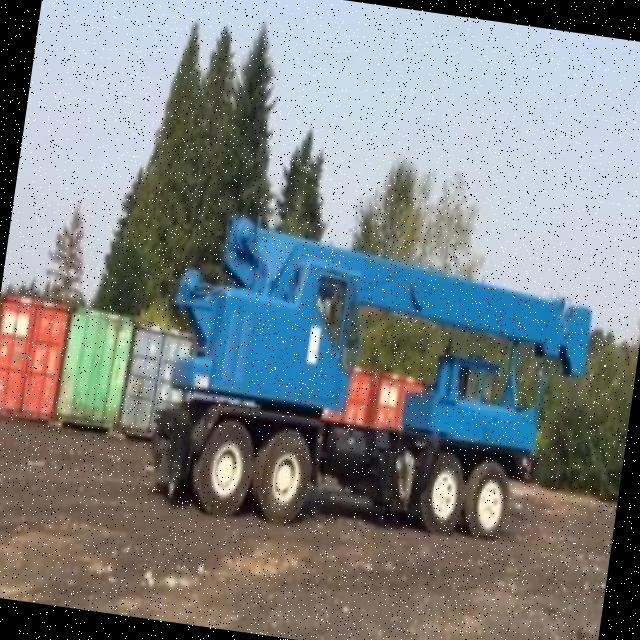Mobile Crane: (140, 214, 597, 559)
